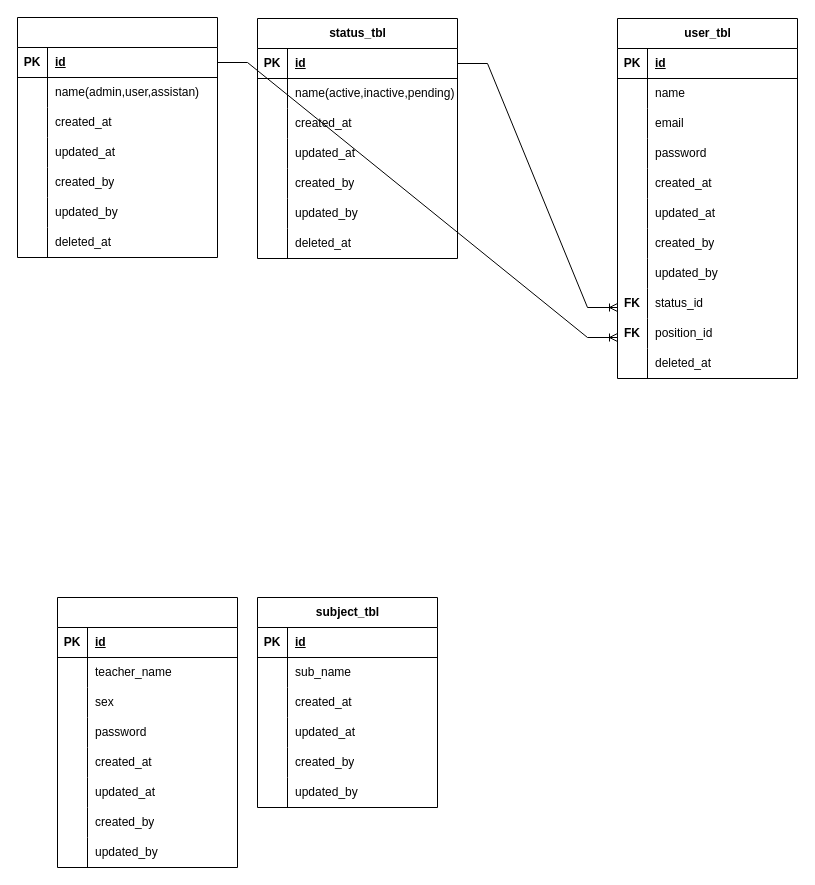
The diagram is 815 pixels wide and 885 high, and some of its shapes have lost their labels. Here are the shapes that lost their labels. From the top down, the box of each, then its label:
(16, 16, 218, 258): position_tbl
(56, 596, 238, 868): teacher_tbl
